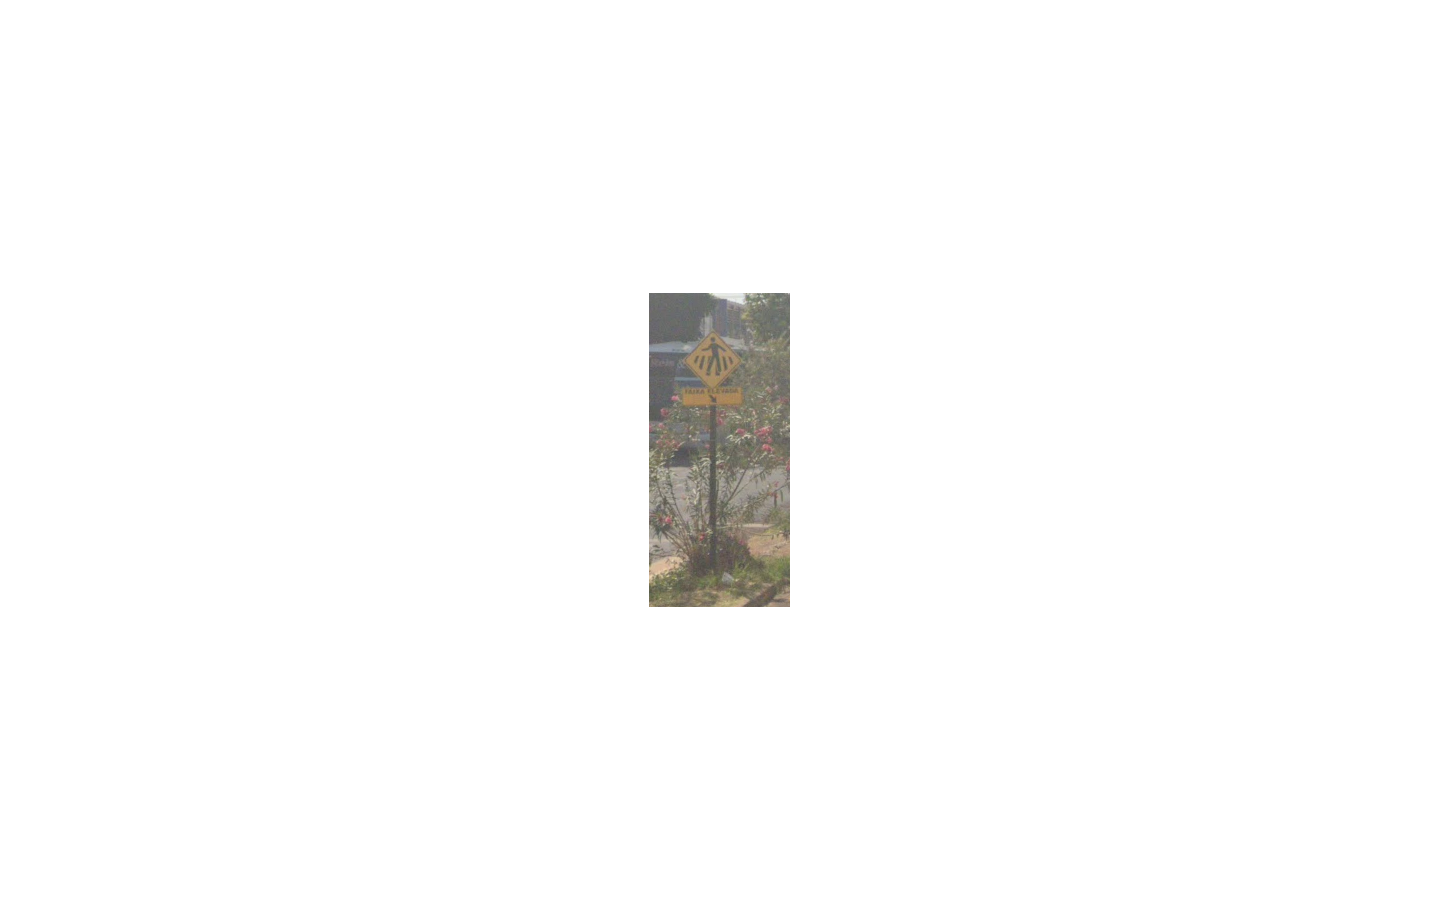telev: (681, 330, 742, 407)
